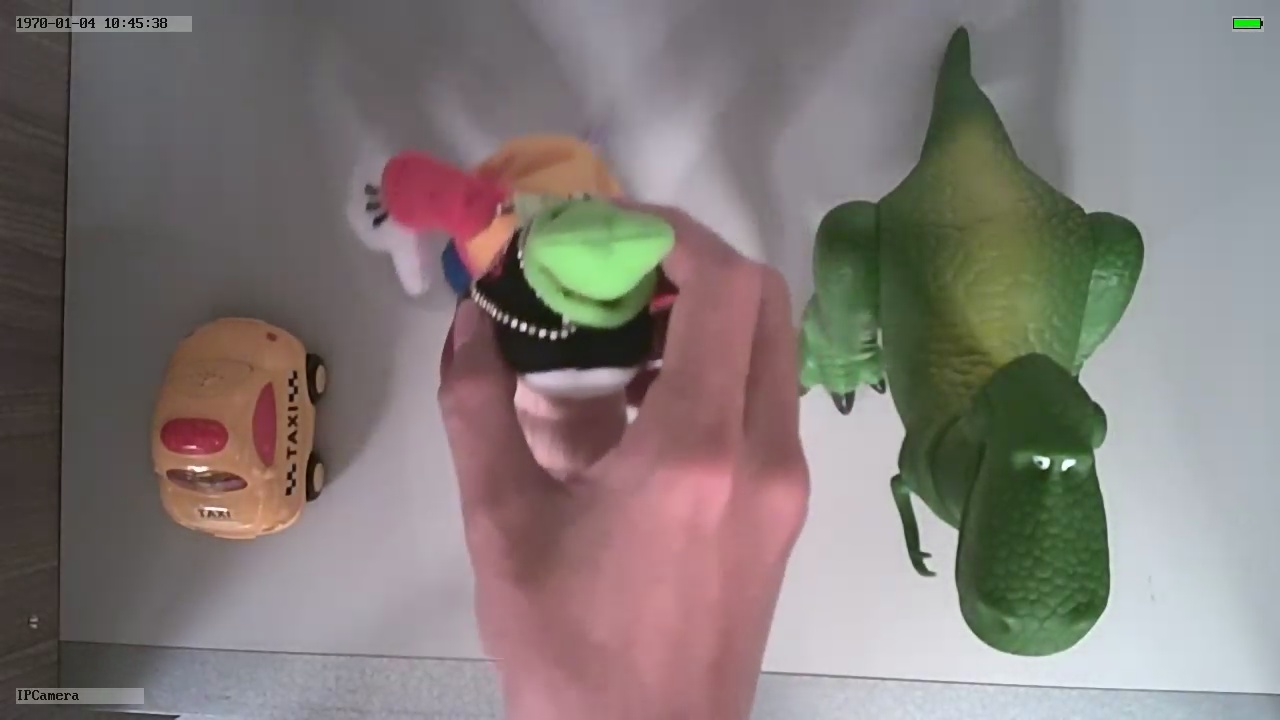car: (143, 313, 331, 542)
rex: (798, 138, 1145, 655)
